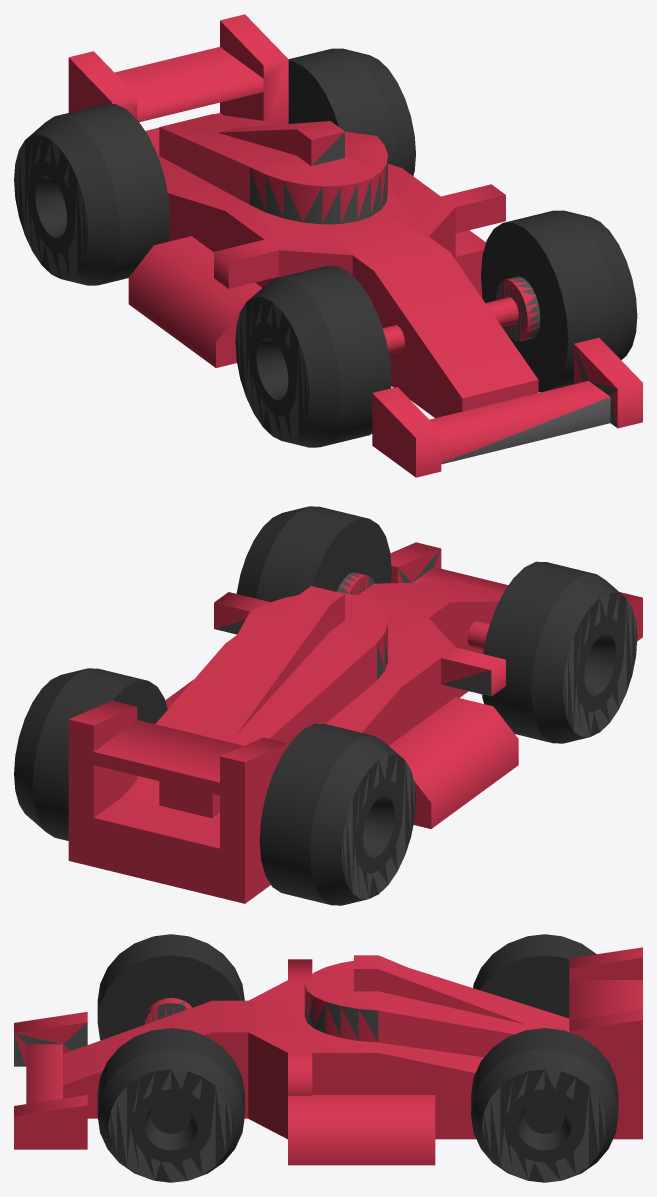
File: scatter.glb
3 renders of one model, top to bottom at view 1: azimuth 30°, elevation 25°; view 2: azimuth 150°, elevation 25°; view 3: azimuth 270°, elevation 25°, orthographic. The views are drawn at different scales.
Bounding box in the file's own units: 13 × 7.33 × 25.6.
